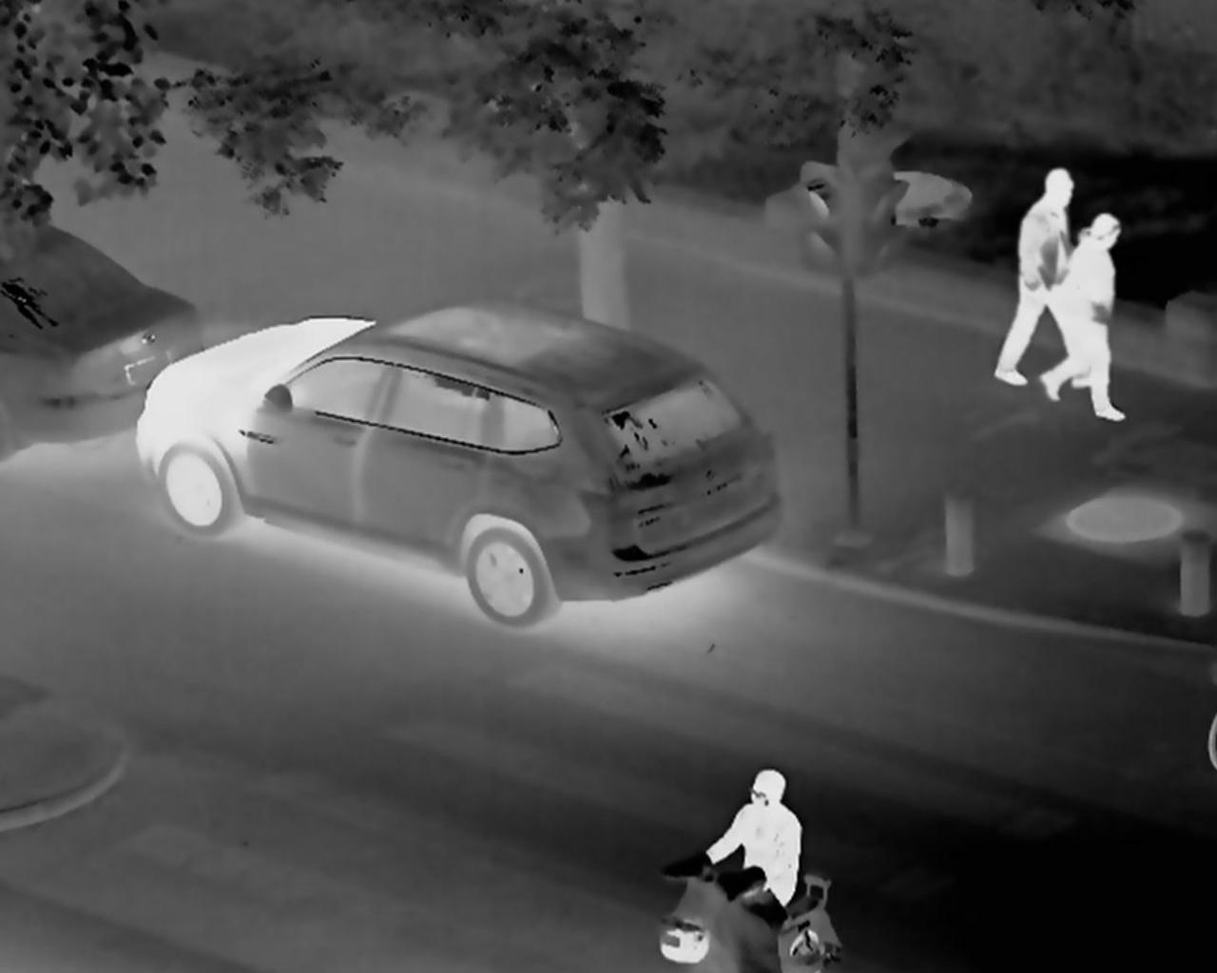person: (709, 754, 803, 920), (1003, 147, 1069, 364), (1072, 212, 1116, 437)
